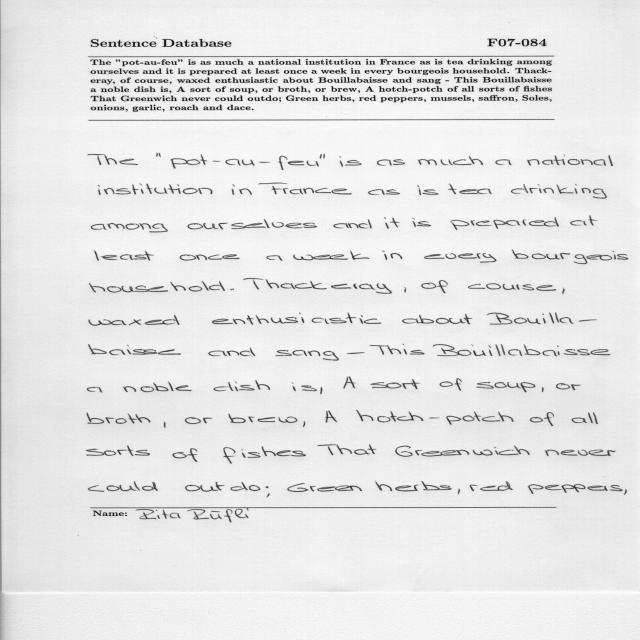word: (356, 410, 514, 425), (171, 154, 319, 170), (243, 279, 392, 294), (433, 345, 610, 357), (212, 313, 381, 325), (512, 250, 628, 264), (90, 281, 225, 293), (224, 446, 307, 464), (395, 446, 530, 457), (511, 184, 607, 199), (187, 219, 317, 230), (450, 217, 559, 230), (487, 313, 597, 325), (98, 184, 213, 195), (258, 183, 352, 194), (89, 344, 181, 355), (89, 315, 179, 326), (528, 484, 623, 494), (527, 155, 613, 166), (91, 223, 168, 233), (88, 481, 158, 492), (375, 481, 452, 491), (87, 412, 151, 424), (185, 482, 261, 492), (424, 253, 497, 263), (468, 283, 556, 291), (275, 350, 339, 361), (86, 445, 150, 456), (403, 314, 473, 324), (123, 382, 192, 392), (293, 252, 369, 261), (287, 483, 362, 492), (94, 250, 154, 261), (418, 156, 483, 166), (214, 380, 271, 391), (229, 414, 298, 423), (370, 344, 425, 355), (477, 382, 536, 392), (318, 445, 377, 455), (88, 154, 138, 165), (371, 379, 420, 389), (448, 184, 491, 195), (470, 481, 513, 491), (545, 450, 615, 456), (209, 348, 256, 356), (180, 255, 239, 261), (333, 220, 372, 229), (421, 280, 448, 293), (173, 448, 198, 462), (530, 412, 554, 426), (572, 412, 598, 424), (439, 378, 462, 391), (570, 216, 597, 226), (340, 156, 362, 167), (232, 184, 252, 195), (418, 185, 439, 195), (383, 250, 403, 260), (292, 383, 317, 391), (377, 159, 405, 166), (185, 417, 213, 424), (368, 189, 400, 195), (384, 217, 400, 229), (556, 383, 581, 390), (412, 218, 431, 227), (343, 377, 356, 389), (325, 410, 337, 423), (495, 160, 512, 166), (266, 255, 283, 261), (87, 387, 103, 392), (266, 486, 270, 497), (347, 352, 365, 354), (320, 154, 325, 159), (320, 387, 323, 395), (156, 153, 161, 157), (562, 288, 565, 294), (624, 489, 627, 495), (404, 287, 406, 293), (303, 421, 305, 427), (542, 387, 544, 392), (458, 489, 460, 494), (164, 422, 165, 428), (230, 289, 234, 290)
